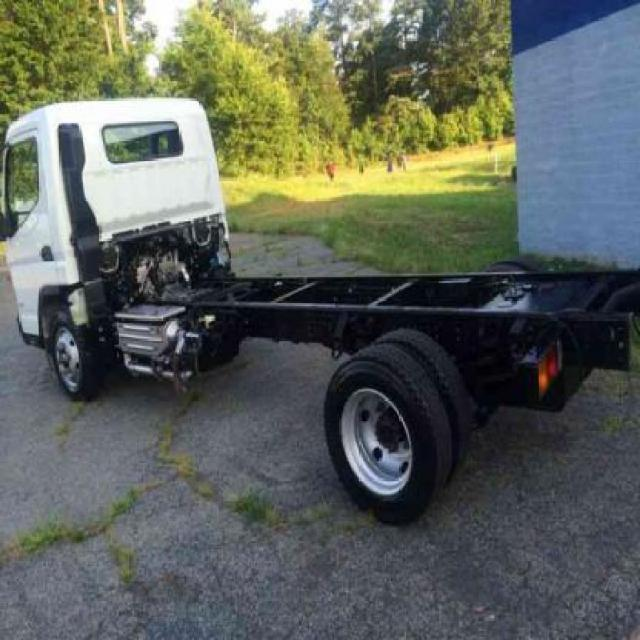truck: (3, 93, 640, 519)
